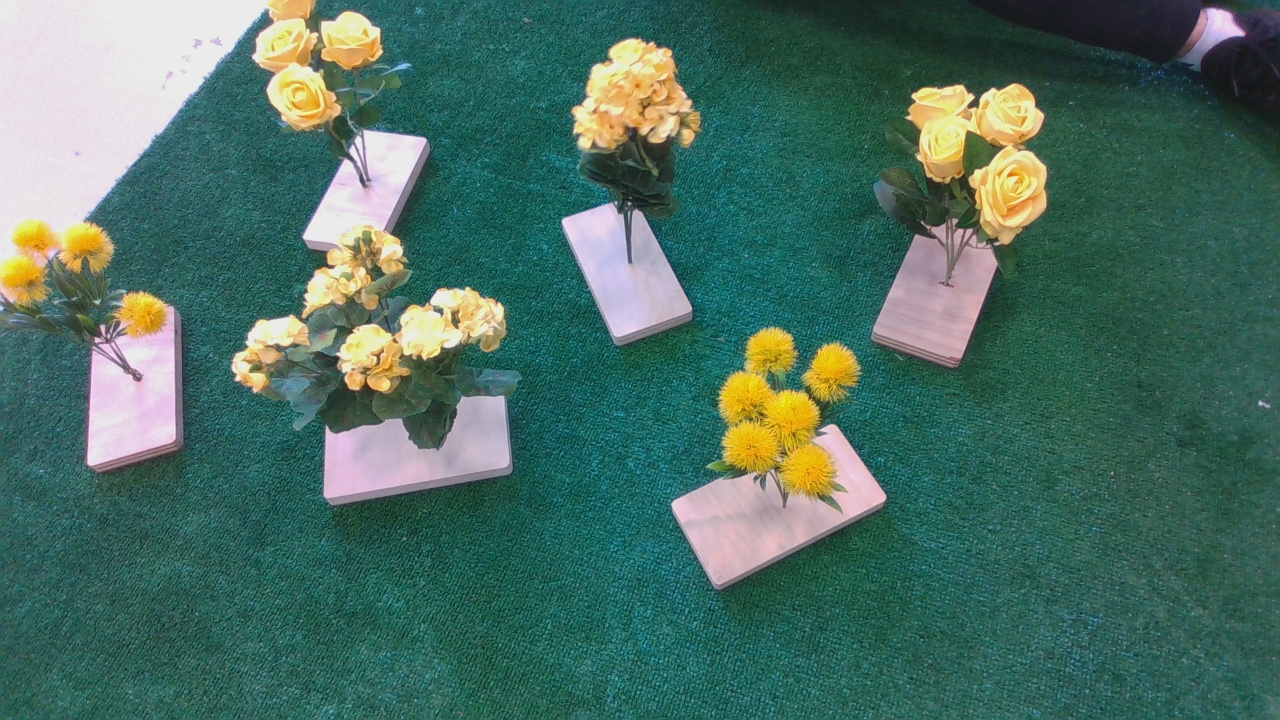dandelion: (714, 326, 871, 517), (2, 217, 194, 366)
geranium: (234, 226, 532, 421), (572, 35, 711, 220)
rose: (868, 77, 1058, 274), (227, 2, 425, 151)
